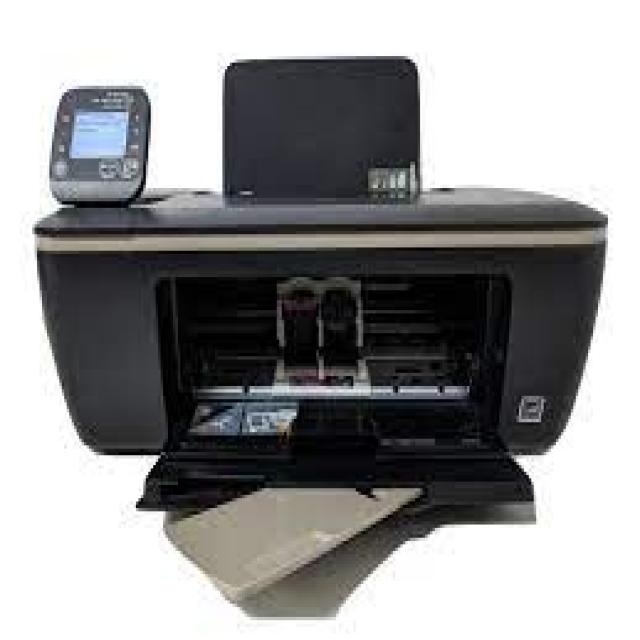printer: (16, 34, 625, 610)
